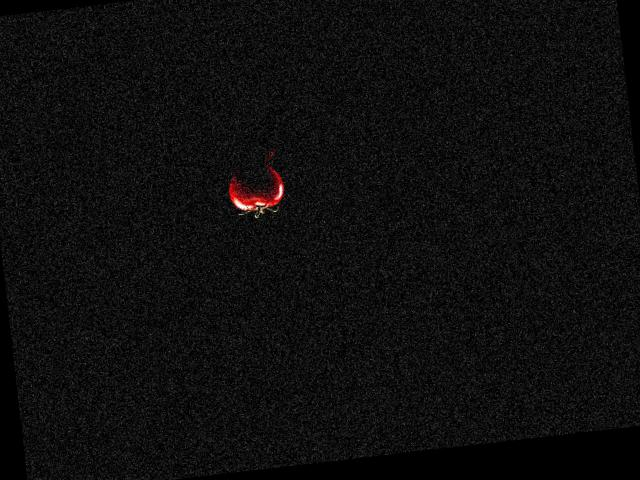tomato: (226, 163, 285, 213)
